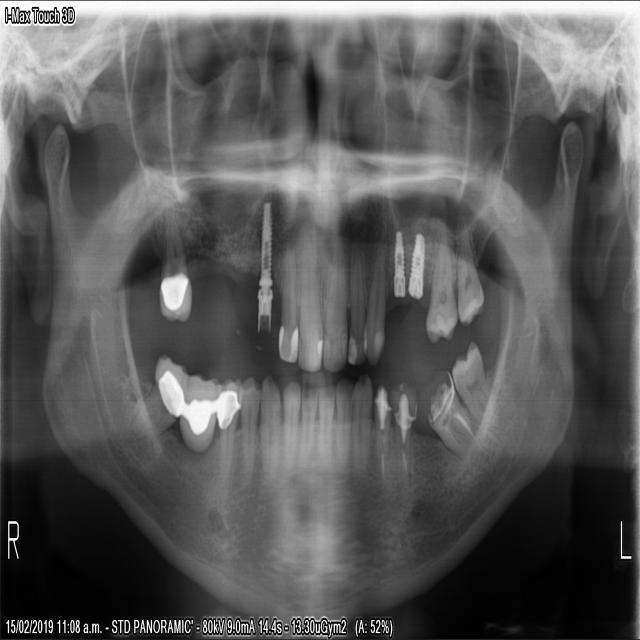LCD: (349, 367, 374, 484)
LCU: (360, 240, 386, 368)
LID: (332, 371, 354, 478), (314, 378, 335, 480)
LIU: (319, 224, 348, 374), (345, 230, 368, 370)
LMD: (420, 364, 477, 461), (446, 329, 491, 426)
LMU: (422, 215, 457, 349), (454, 211, 486, 327)
LPMD: (385, 372, 418, 488), (369, 374, 392, 492)
RCD: (256, 366, 281, 487)
RID: (295, 376, 319, 476), (279, 374, 301, 476)
RIU: (295, 223, 323, 376), (275, 230, 299, 365)
RMD: (123, 347, 187, 450)
RMU: (153, 199, 194, 327)
RPMD: (210, 369, 243, 502), (234, 368, 262, 496)
